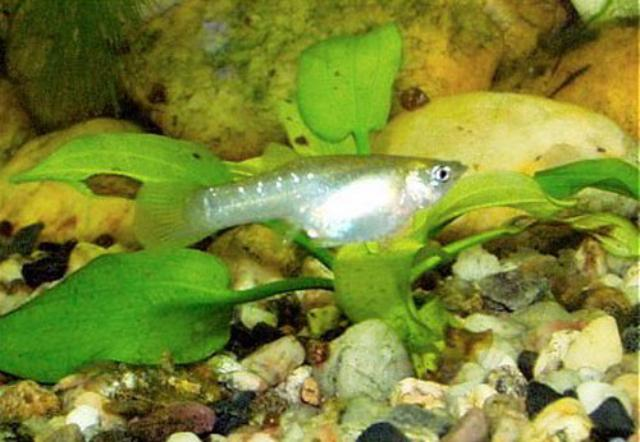Sirip Anal: (448, 148, 486, 196)
Sirip Ekor: (122, 168, 218, 268)
